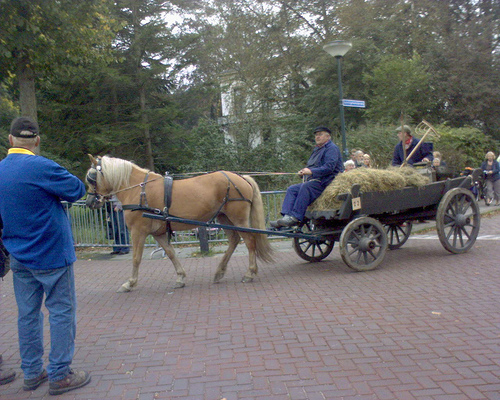horse: (84, 152, 275, 291)
